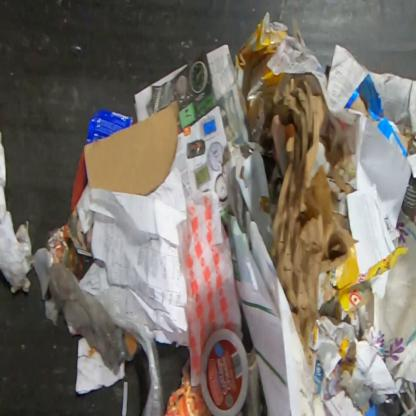cardboard: (82, 100, 179, 197), (235, 12, 291, 142), (317, 244, 410, 321), (343, 72, 415, 159)
rigid_plastic: (32, 247, 166, 416), (200, 328, 249, 415)
soft_plastic: (174, 189, 245, 387)
